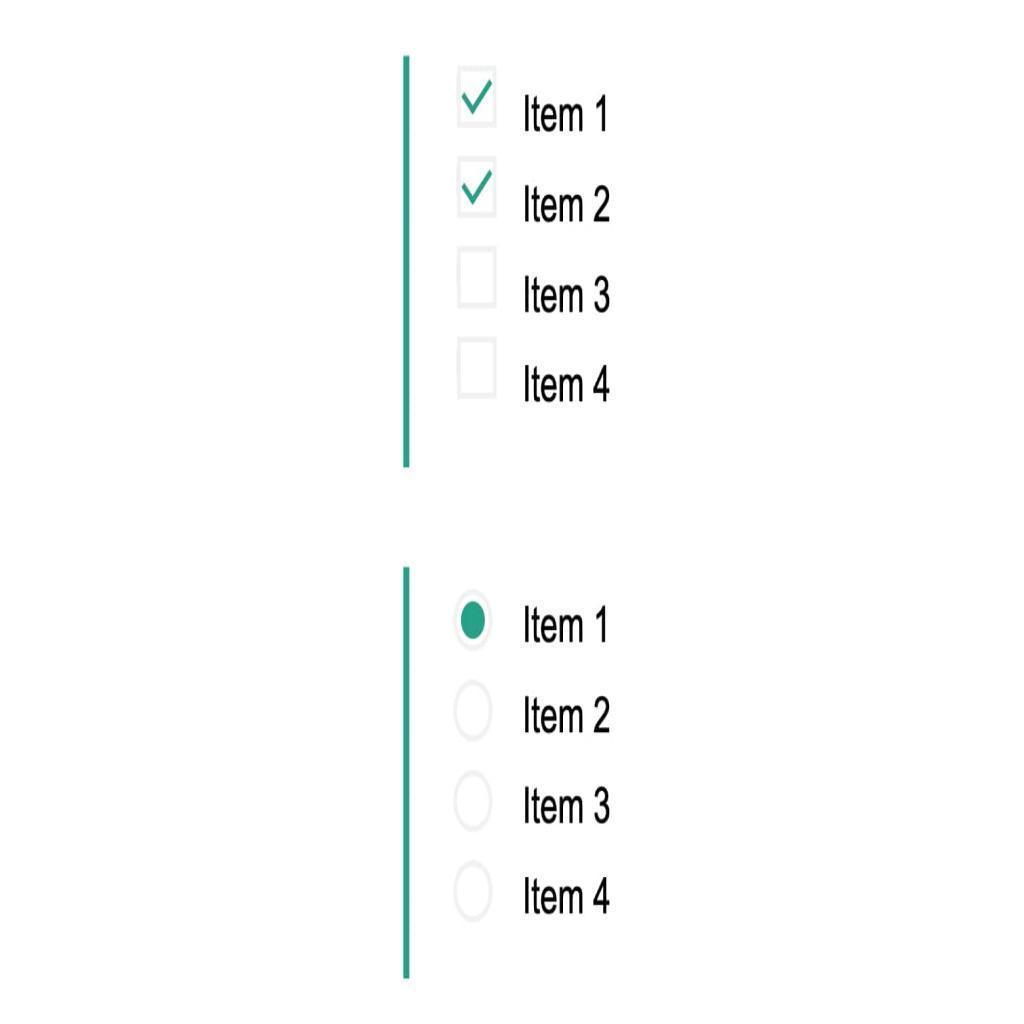checkbox: (458, 63, 499, 128), (456, 244, 497, 307), (456, 336, 496, 399), (457, 156, 498, 216)
label: (516, 776, 615, 831), (514, 869, 616, 921), (520, 357, 618, 410), (521, 687, 617, 741), (517, 180, 618, 231), (517, 601, 613, 651), (519, 269, 617, 317), (521, 90, 612, 139)
radio: (450, 859, 495, 925), (451, 769, 495, 833), (450, 677, 493, 742), (453, 589, 492, 653)
